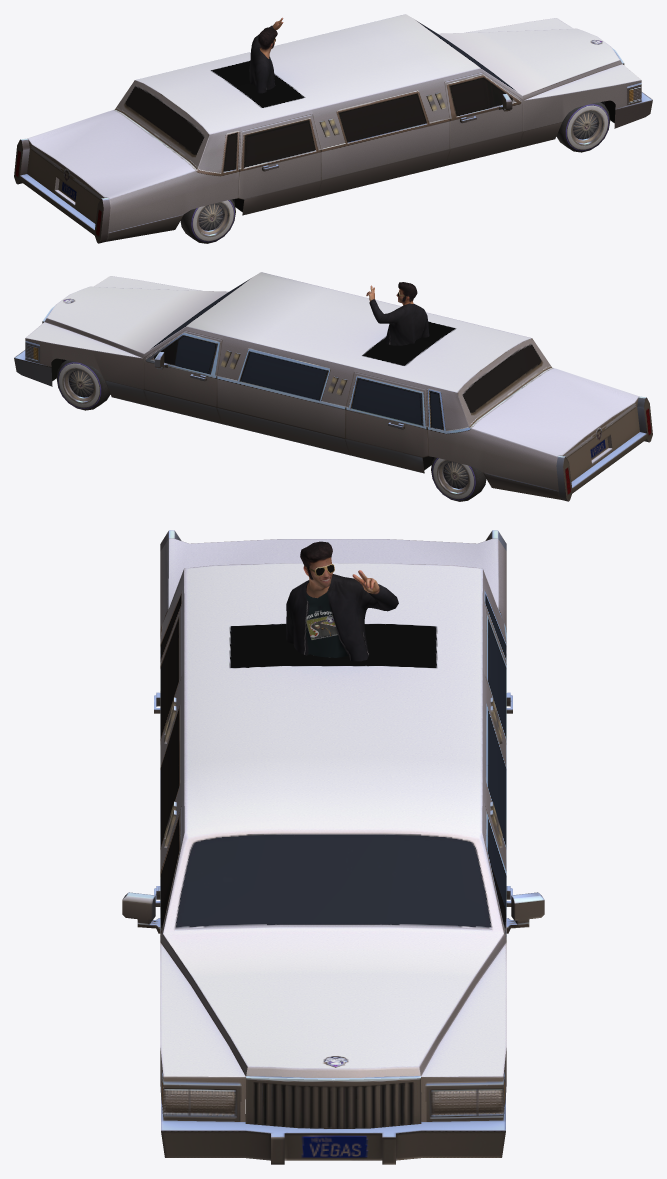
The model's file is f1_limo_with_wheel.dae.
3 renders of one model, top to bottom at view 1: azimuth 30°, elevation 25°; view 2: azimuth 150°, elevation 25°; view 3: azimuth 270°, elevation 25°, orthographic. The views are drawn at different scales.
Parts seen in each view (by area): view 1: stretchlimo_body, stretchlimo_wheels; view 2: stretchlimo_body, stretchlimo_wheels; view 3: stretchlimo_body.
Boxes of the visible parts, x1,y1,x2,y2 form: stretchlimo_body: [14, 14, 652, 243]; stretchlimo_wheels: [180, 102, 610, 243]; stretchlimo_body: [14, 272, 652, 501]; stretchlimo_wheels: [56, 360, 486, 501]; stretchlimo_body: [122, 530, 544, 1164].
Size of the model in its own units: 0.4041 by 0.1322 by 0.1127.
2 materials, 2 textured.
